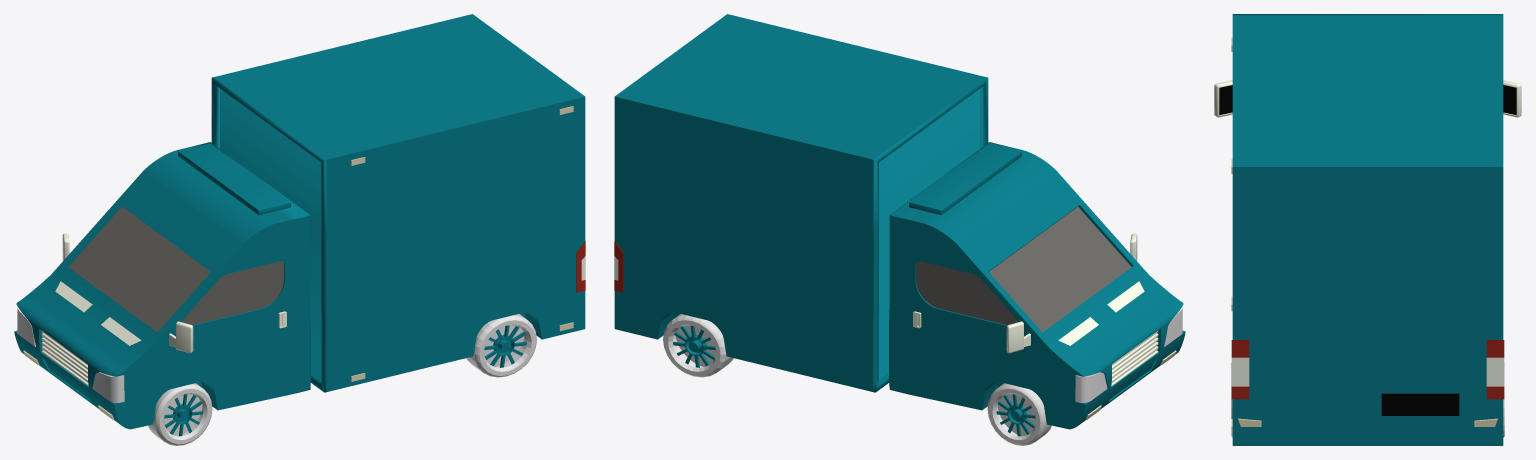
The picture shows the model from 3 angles, left to right: view 1: azimuth 30°, elevation 25°; view 2: azimuth 150°, elevation 25°; view 3: azimuth 270°, elevation 25°; orthographic projection. The views are drawn at different scales.
Visible parts, largest first — view 1: car1.006; view 2: car1.006; view 3: car1.006.
Part boxes in pixels (bbox=[...]): car1.006: bbox=[14, 14, 585, 445]; car1.006: bbox=[614, 14, 1185, 445]; car1.006: bbox=[1214, 14, 1521, 445].
Size of the model in its own units: 635 by 341 by 302.
